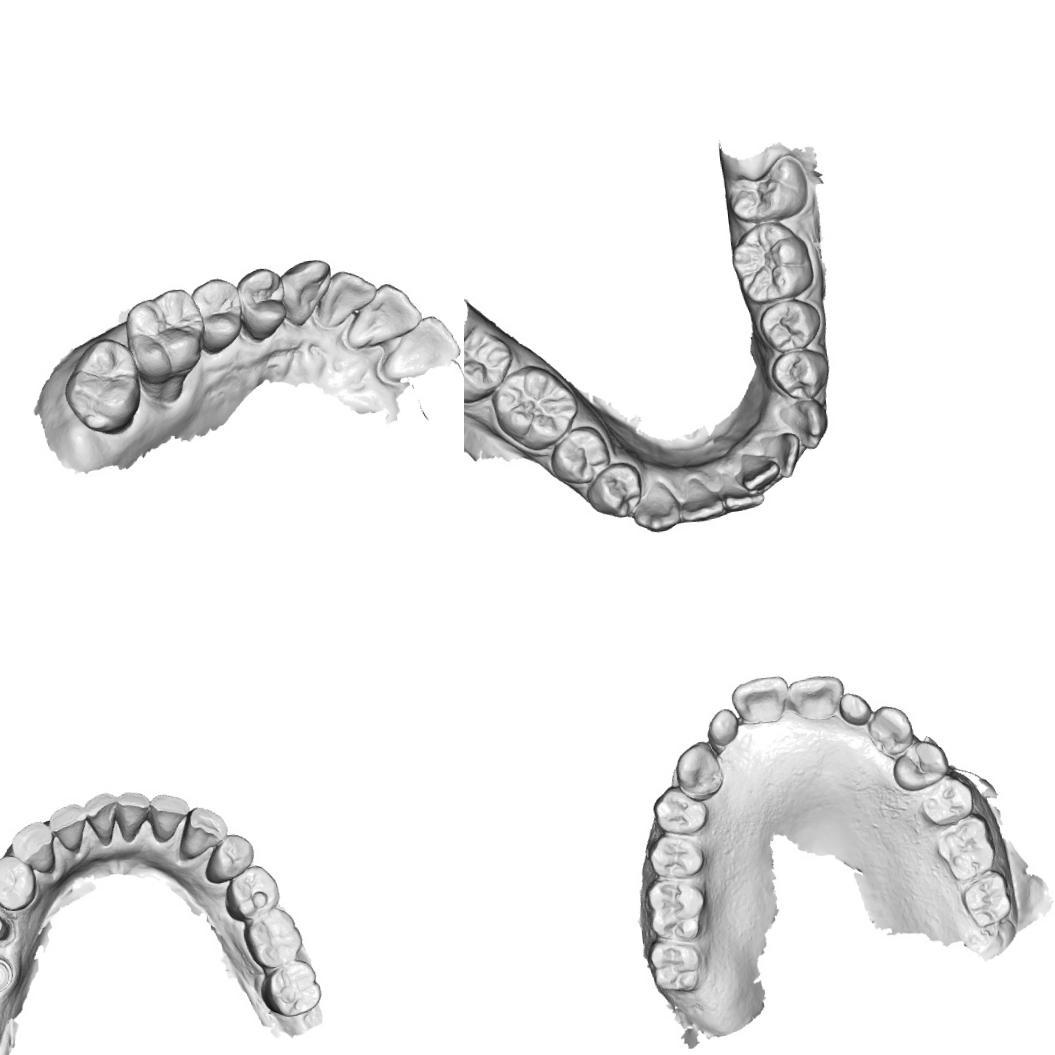canine: (278, 254, 338, 330), (672, 737, 728, 804), (627, 477, 685, 537), (174, 802, 232, 862), (775, 396, 832, 454), (864, 701, 917, 759), (9, 818, 58, 877)
crown: (0, 905, 17, 950)
implant_minus: (0, 954, 16, 994)
incisor: (338, 278, 427, 354), (371, 311, 462, 382), (312, 264, 382, 332), (675, 467, 732, 527), (728, 675, 792, 728), (784, 675, 846, 725), (715, 466, 768, 517), (734, 447, 785, 496), (147, 790, 193, 844), (82, 789, 122, 849), (114, 788, 154, 846), (764, 426, 805, 482), (46, 802, 90, 854), (704, 705, 742, 756), (836, 689, 876, 729)
molar: (486, 357, 585, 457), (58, 332, 146, 440), (121, 285, 208, 389), (726, 215, 816, 307), (720, 151, 813, 226), (931, 810, 999, 884), (642, 873, 710, 946), (464, 320, 520, 407), (240, 904, 306, 972), (256, 956, 324, 1020), (644, 934, 711, 997), (958, 867, 1015, 930)
premolar: (187, 275, 248, 359), (233, 261, 291, 345), (545, 422, 616, 489), (582, 458, 647, 524), (755, 294, 824, 356), (766, 342, 834, 402), (220, 862, 282, 924), (888, 736, 952, 794), (649, 780, 711, 838), (916, 774, 977, 830), (199, 830, 258, 886), (644, 830, 707, 881), (0, 851, 40, 914)
